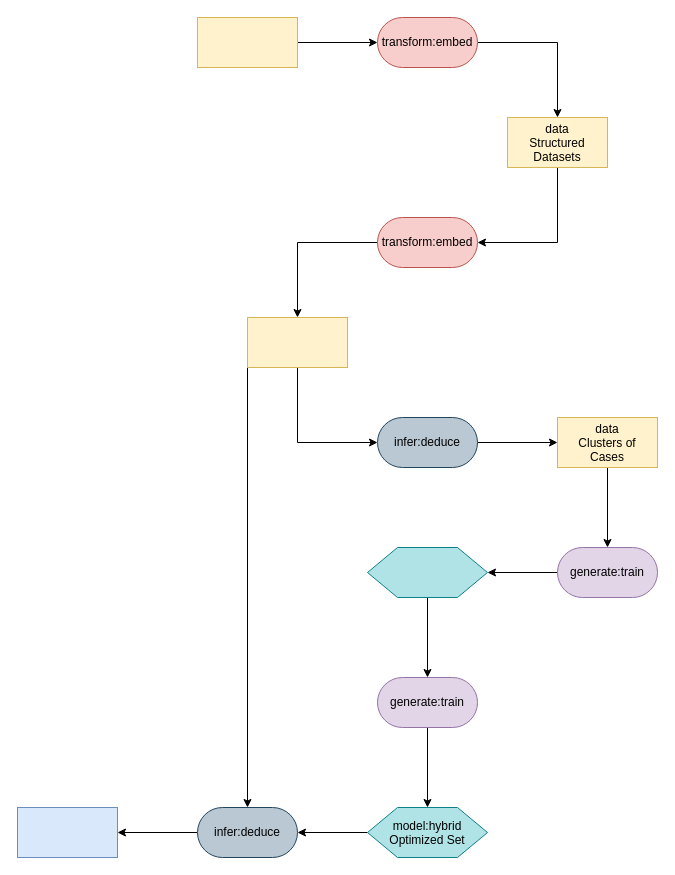
This 675x875 diagram has some shape labels left out. Each missing label, with the centre of its shape:
data Features for Each Condition: point (297, 342)
data Raw Medical Datasets: point (247, 42)
model:hybrid Fuzzy Decision Tree: point (427, 572)
symbol Condition: point (67, 832)
